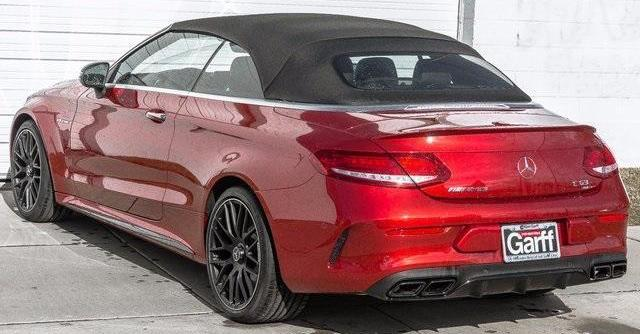C63AMG: (7, 9, 634, 326)
